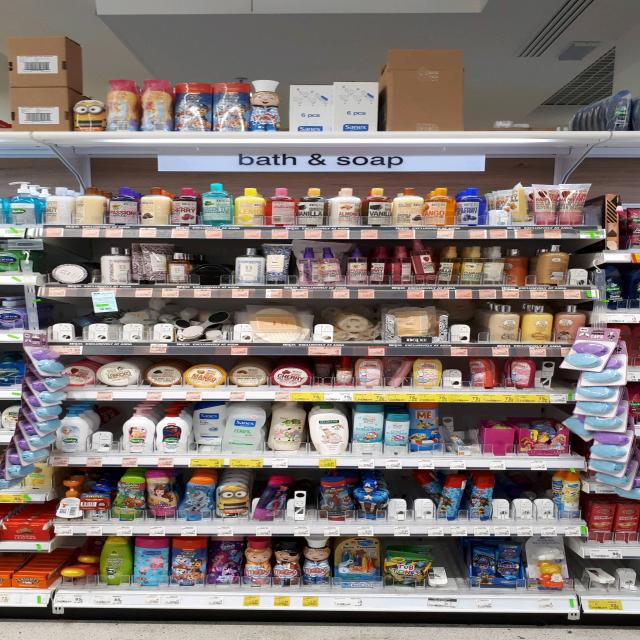empty: (465, 59, 602, 136), (492, 467, 557, 523), (386, 473, 431, 531), (427, 534, 470, 589), (187, 245, 240, 289), (445, 299, 488, 345), (284, 476, 322, 525)
